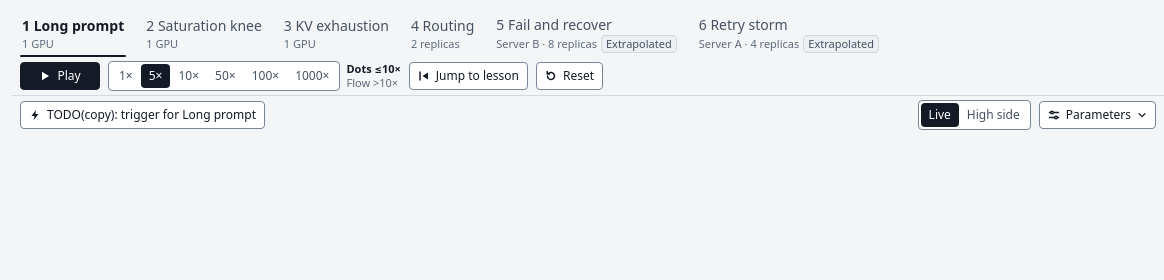
Scenario: ParametersDrawer › opens under the toolbar from its toggle and closes with Escape
Click the tab "4 Routing 2 replicas" at (443, 34), box [401,12,484,56]
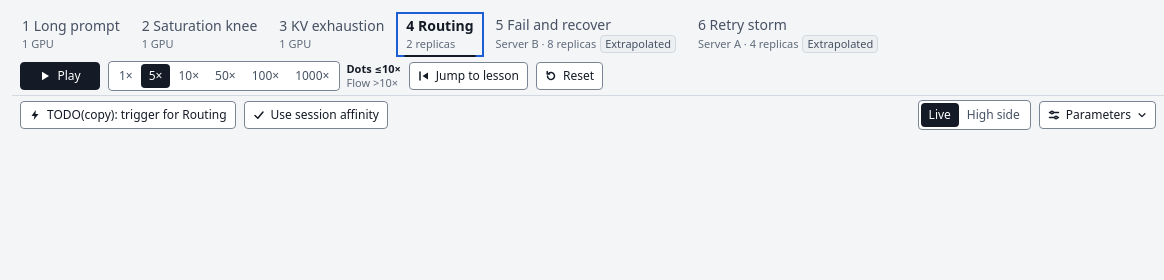
Click the button "Parameters" at (1097, 114), box [1039,100,1156,128]
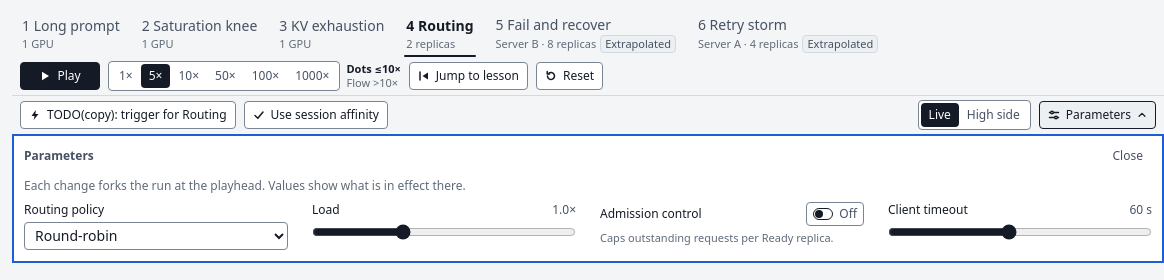
Expected: the button "Parameters" is expanded, [1039,100,1156,128]
Expected: the dropdown labelled "Routing policy" is shown, [24,222,288,250]
Expected: the slider labelled "Load" is shown, [312,222,576,242]
Press Escape
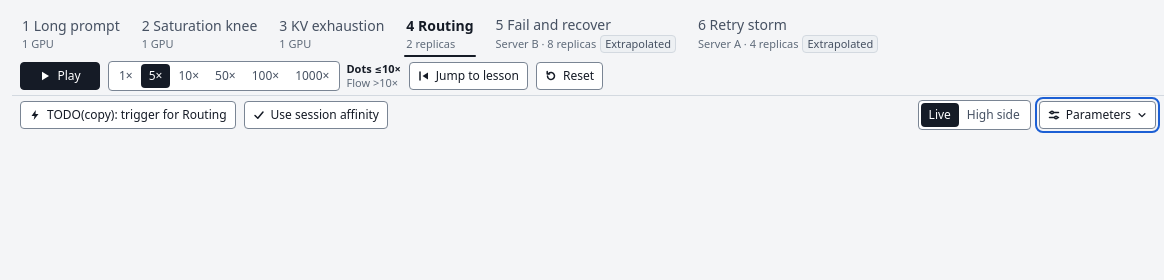
Expected: the button "Parameters" is collapsed, [1039,100,1156,128]
